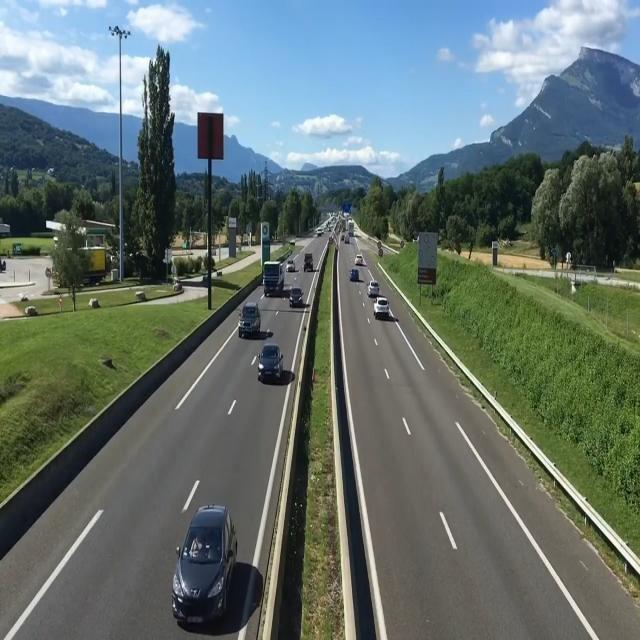Car: (172, 507, 239, 623), (258, 345, 284, 382), (239, 302, 261, 338), (374, 297, 389, 319), (288, 288, 304, 307), (367, 280, 381, 298), (350, 268, 359, 281), (354, 254, 364, 265), (287, 260, 296, 272)
Truck: (263, 261, 285, 295), (348, 220, 355, 238)
